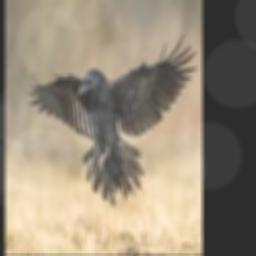Crow: (19, 31, 197, 204)
